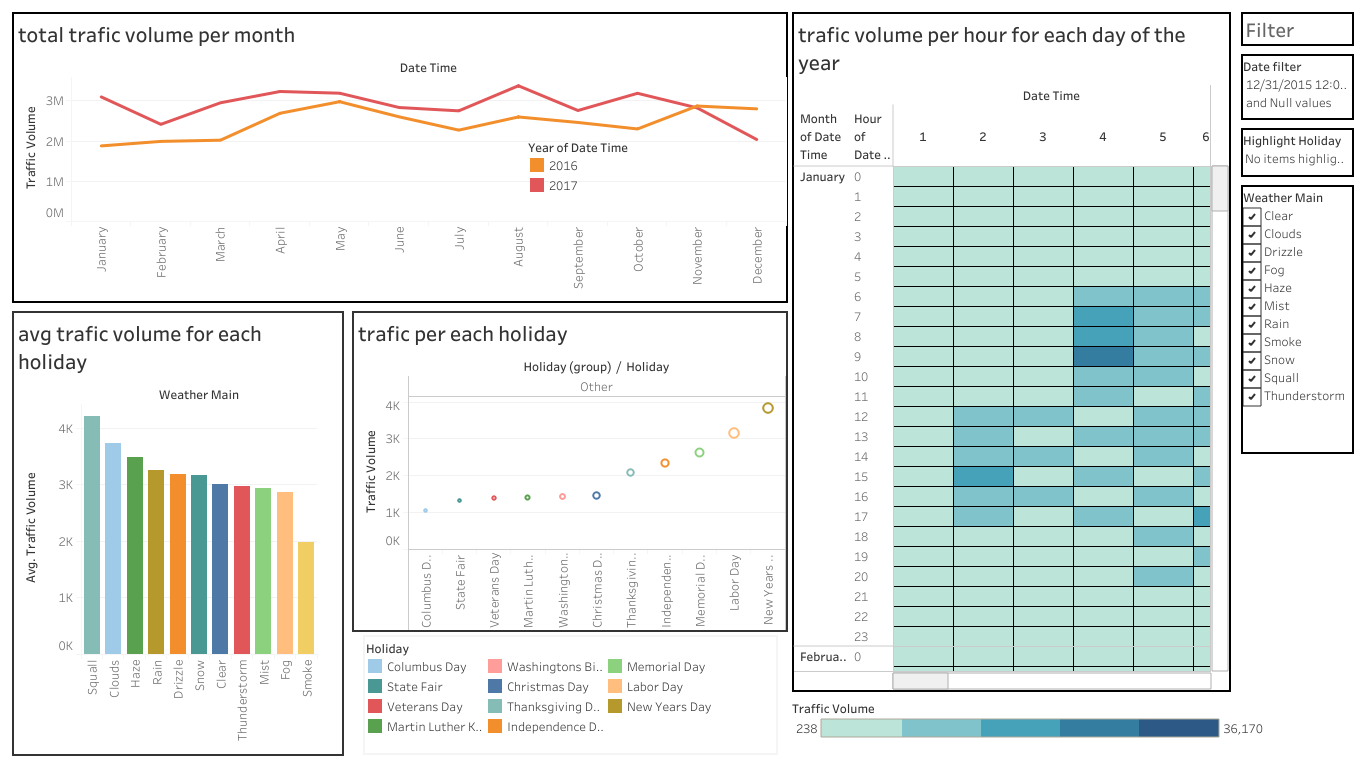

The page's visual inventory and layout, read from the dashboard file:
{"tool":"tableau","page":{"name":"Dashboard 1","canvas":[1366,768],"ordinal":0},"visuals":[{"type":"worksheet","title":"trafic-per-time-period","mark":"Line","rows":["traffic_volume"],"cols":["date_time"],"box":[8,8,784.3,298.7]},{"type":"text","box":[1237,8,121,42]},{"type":"worksheet","title":"Sheet 4","mark":"Square","rows":["date_time","date_time"],"cols":["date_time"],"box":[792,12,439,680]},{"type":"filter","title":"trafic-per-time-period","param":"[federated.1rosj7t0tak7ve13k4pa10j4ha1p].[none:date_time:qk]","box":[1237,50,121,74]},{"type":"highlighter","title":"holiday-trafic","param":"[federated.1rosj7t0tak7ve13k4pa10j4ha1p].[none:holiday:nk]","box":[1237,124,121,57]},{"type":"legend","title":"trafic-per-time-period","param":"[federated.1rosj7t0tak7ve13k4pa10j4ha1p].[yr:date_time:ok]","box":[527,136,173,82]},{"type":"filter","title":"weather-trafic","param":"[federated.1rosj7t0tak7ve13k4pa10j4ha1p].[none:weather_main:nk]","box":[1237,181,121,277]},{"type":"worksheet","title":"weather-trafic","mark":"Automatic","rows":["traffic_volume"],"cols":["weather_main"],"box":[8,306.7,339.6,453.3]},{"type":"worksheet","title":"holiday-trafic","mark":"Shape","rows":["traffic_volume"],"cols":["holiday"],"box":[347.6,306.7,444.7,329.4]},{"type":"legend","title":"holiday-trafic","param":"[federated.1rosj7t0tak7ve13k4pa10j4ha1p].[none:holiday:nk]","box":[363,635,415,120]},{"type":"blank","box":[347.6,636.1,444.7,123.9]},{"type":"legend","title":"Sheet 4","param":"[federated.1rosj7t0tak7ve13k4pa10j4ha1p].[sum:traffic_volume:qk]","box":[792,695,476,43]}]}

Visuals, with their boxes in screenshot pixels (x1, y1, x2, y2), scaled from the page's 1366x768 canvas onto the 1365x767 screenshot:
"trafic-per-time-period" worksheet (Line marks): [left=8, top=8, right=792, bottom=306]
text: [left=1236, top=8, right=1357, bottom=50]
"Sheet 4" worksheet (Square marks): [left=791, top=12, right=1230, bottom=691]
"trafic-per-time-period" filter: [left=1236, top=50, right=1357, bottom=124]
"holiday-trafic" highlighter: [left=1236, top=124, right=1357, bottom=181]
"trafic-per-time-period" legend: [left=527, top=136, right=699, bottom=218]
"weather-trafic" filter: [left=1236, top=181, right=1357, bottom=457]
"weather-trafic" worksheet: [left=8, top=306, right=347, bottom=759]
"holiday-trafic" worksheet (Shape marks): [left=347, top=306, right=792, bottom=635]
"holiday-trafic" legend: [left=363, top=634, right=777, bottom=754]
blank: [left=347, top=635, right=792, bottom=759]
"Sheet 4" legend: [left=791, top=694, right=1267, bottom=737]
